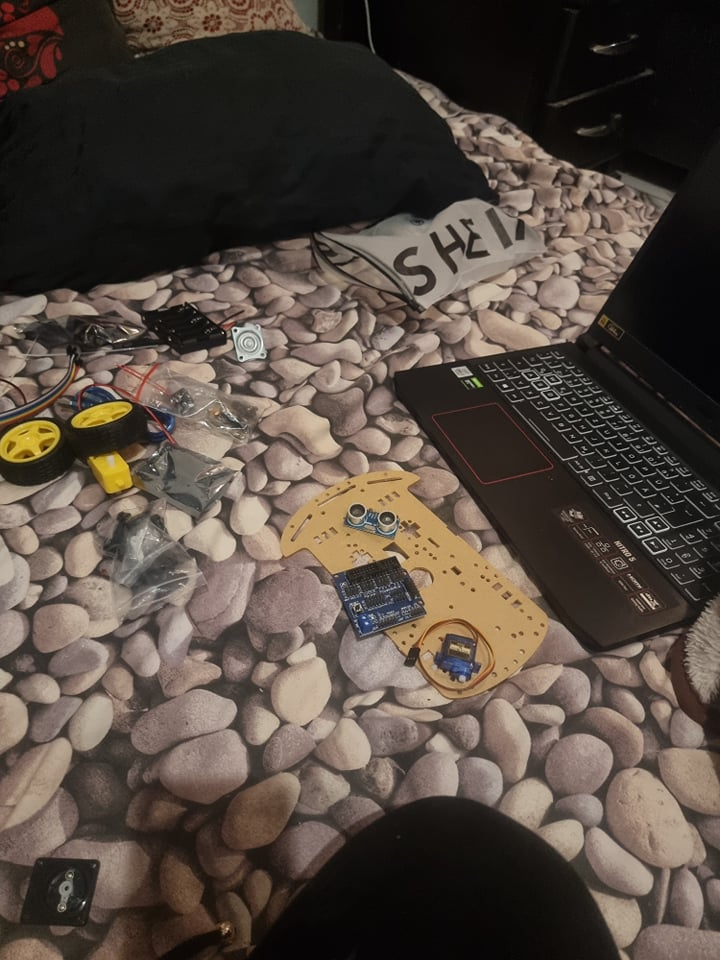5V EXPANSION: (330, 556, 427, 640)
BATTERY BOX: (146, 296, 227, 355)
SENSOR: (343, 501, 400, 537)
